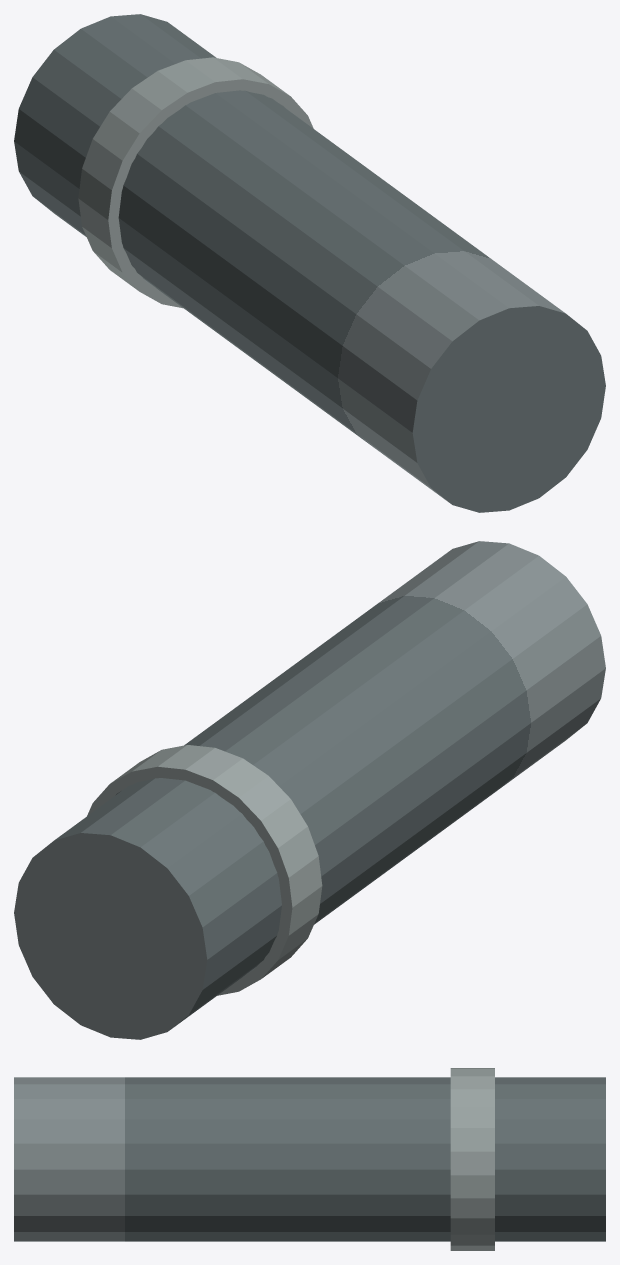
The model's file is output_shaft_front_rotating.obj.
The picture shows the model from 3 angles, top to bottom: view 1: azimuth 30°, elevation 25°; view 2: azimuth 150°, elevation 25°; view 3: azimuth 270°, elevation 25°; orthographic projection. The views are drawn at different scales.
Visible parts, largest first — view 1: output_shaft, rotating_inner_race; view 2: output_shaft, rotating_inner_race; view 3: output_shaft, rotating_inner_race.
Boxes of the visible parts, bbox=[...] form: output_shaft: bbox=[14, 14, 605, 512]; rotating_inner_race: bbox=[78, 57, 313, 308]; output_shaft: bbox=[14, 541, 605, 1039]; rotating_inner_race: bbox=[87, 745, 322, 995]; output_shaft: bbox=[14, 1077, 605, 1241]; rotating_inner_race: bbox=[450, 1068, 494, 1250].
Bounding box in the file's own units: 0.31 × 0.31 × 1.
